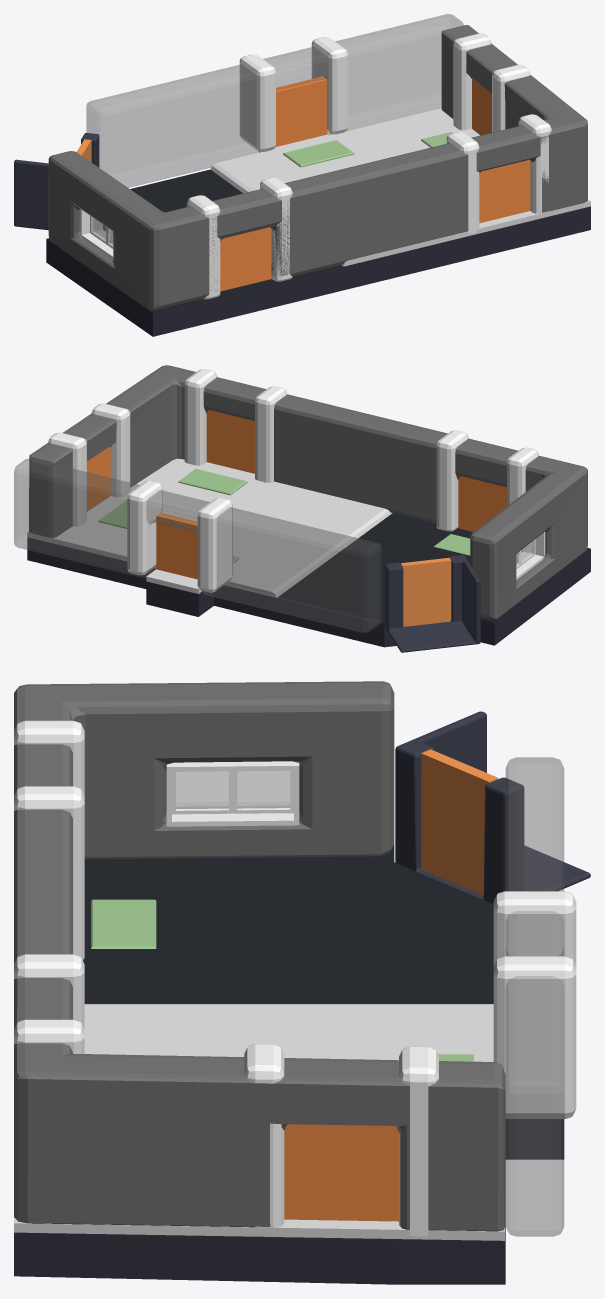
3 renders of one model, top to bottom at view 1: azimuth 30°, elevation 25°; view 2: azimuth 150°, elevation 25°; view 3: azimuth 270°, elevation 25°, orthographic. The views are drawn at different scales.
Parts seen in each view (by area): view 1: wall01.004, wall01.003, 地板.005, 門框.005, 地板1.007, door02.005, door01.003, Cube.030, door02.004, Plane.008, door03.003, Cube.026 (+1 smaller); view 2: wall01.004, wall01.003, 地板.005, 地板1.007, 門框.005, Cube.030, door02.004, door02.005, door01.003, Plane.008, Cube.028, Cube.029 (+3 smaller); view 3: wall01.004, 地板.005, 門框.005, 地板1.007, wall01.003, Cube.030, door03.003, Cube.025, Cube.028, Cube.026, Cube.029, Plane.008.
Boxes of the visible parts, x1,y1,x2,y2 form: wall01.004: [48, 25, 587, 309]; wall01.003: [86, 14, 463, 187]; 地板.005: [46, 151, 590, 336]; 門框.005: [187, 33, 551, 299]; 地板1.007: [210, 108, 590, 266]; door02.005: [275, 76, 327, 146]; door01.003: [220, 227, 271, 291]; Cube.030: [14, 133, 99, 230]; door02.004: [479, 159, 530, 223]; Plane.008: [283, 132, 452, 167]; door03.003: [472, 78, 491, 135]; Cube.026: [80, 209, 113, 259]; wall01.004: [29, 365, 587, 619]; wall01.003: [14, 458, 381, 632]; 地板.005: [27, 513, 590, 647]; 地板1.007: [27, 458, 392, 597]; 門框.005: [48, 369, 538, 592]; Cube.030: [384, 555, 480, 652]; door02.004: [206, 410, 254, 473]; door02.005: [156, 513, 197, 579]; door01.003: [458, 476, 506, 531]; Plane.008: [98, 469, 470, 563]; Cube.028: [425, 557, 451, 624]; Cube.029: [401, 560, 426, 626]; wall01.004: [14, 681, 505, 1231]; 地板.005: [14, 844, 564, 1284]; 門框.005: [14, 720, 576, 1236]; 地板1.007: [14, 1004, 504, 1240]; wall01.003: [505, 757, 564, 1236]; Cube.030: [395, 711, 590, 903]; door03.003: [284, 1124, 398, 1221]; Cube.025: [172, 770, 293, 814]; Cube.028: [421, 749, 463, 883]; Cube.026: [166, 761, 299, 826]; Cube.029: [455, 763, 498, 895]; Plane.008: [91, 899, 473, 1061].
Bounding box in the file's own units: 2498 × 593 × 1469.
